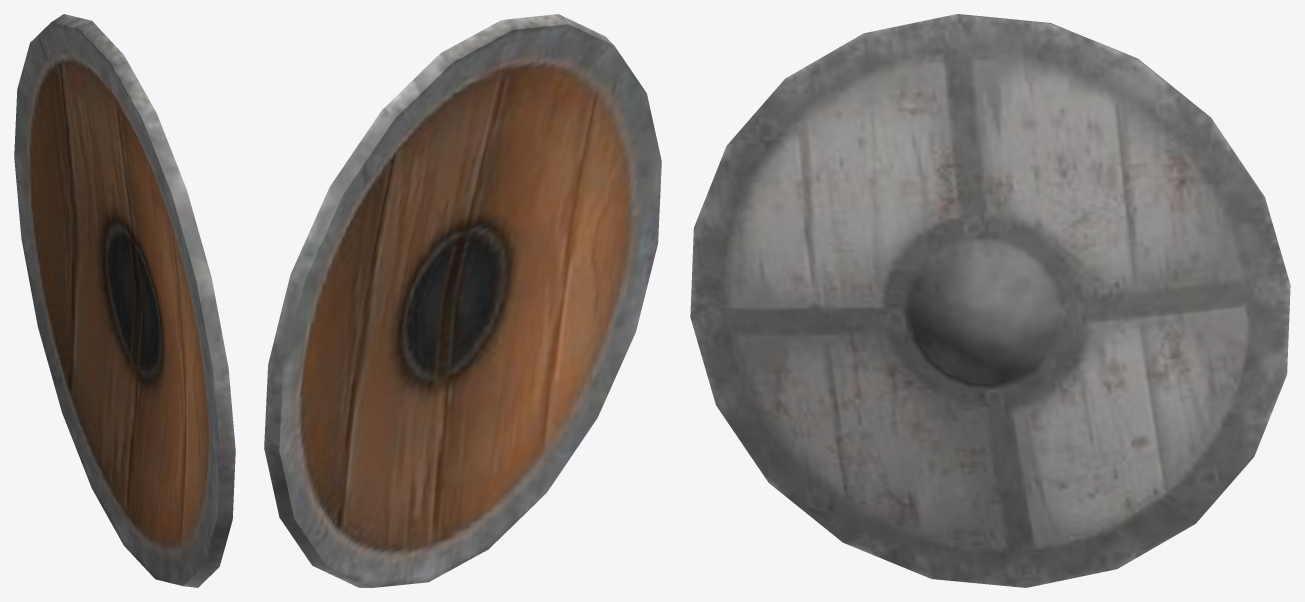
The model's file is rider-shield-slice-bronzeshields.glb.
3 views of the same model, side by side, from view 1: azimuth 30°, elevation 25°; view 2: azimuth 150°, elevation 25°; view 3: azimuth 270°, elevation 25° (orthographic). The views are drawn at different scales.
Bounding box in the file's own units: 0.1355 × 0.5692 × 0.5638.
1 material, 1 textured.
